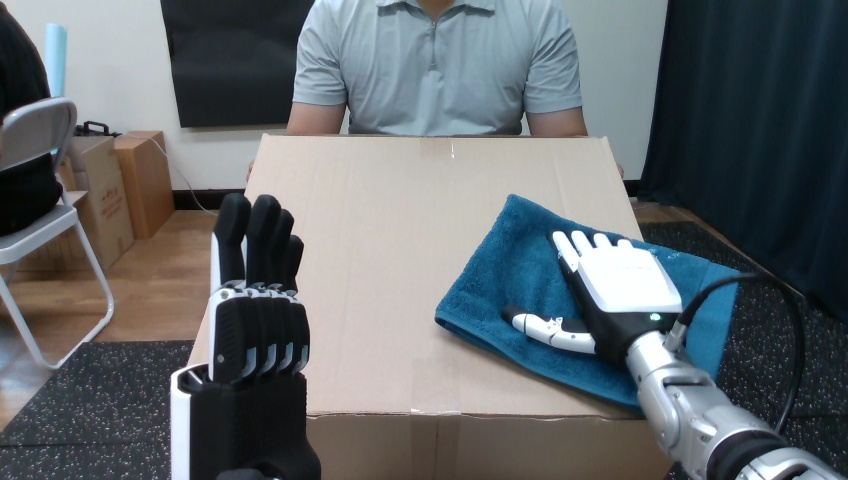left robot hand: (171, 194, 320, 479), (711, 282, 793, 426), (784, 296, 847, 476)
